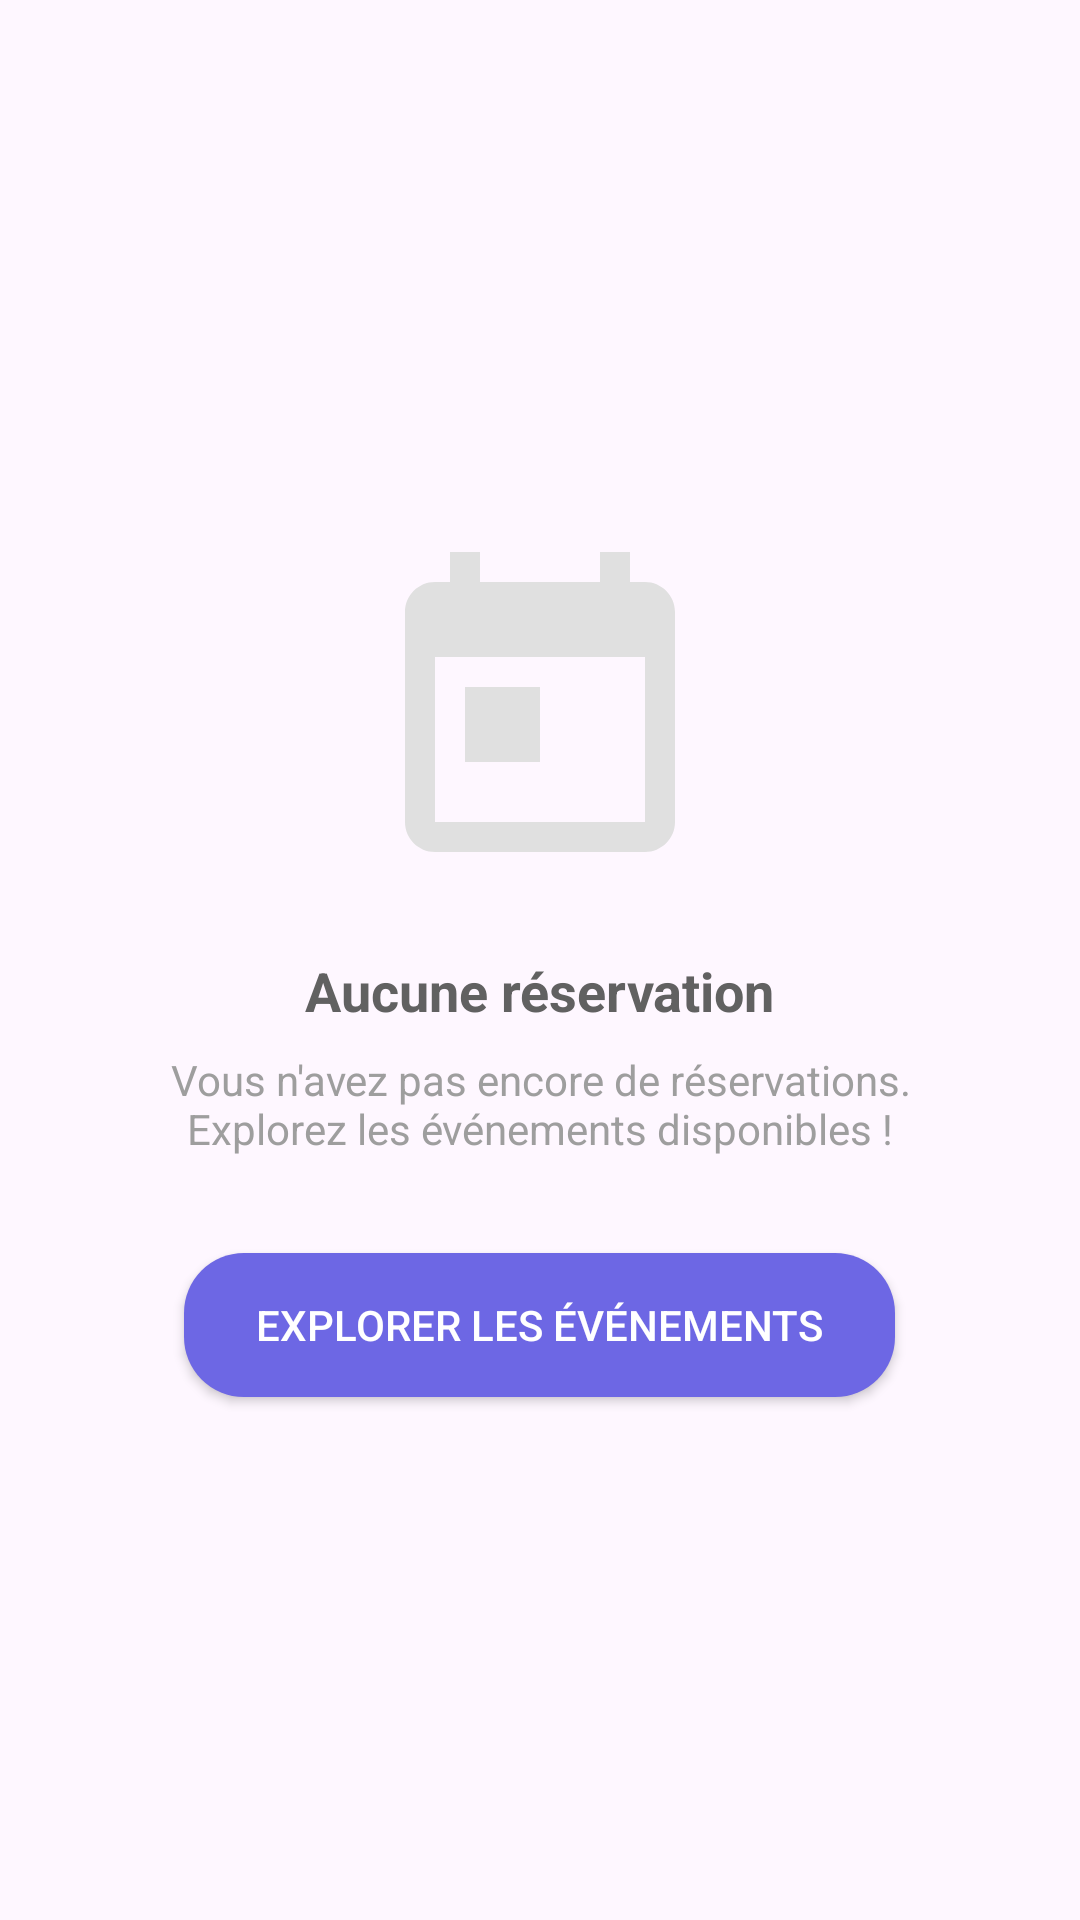

Screen size 1080 × 1920. Icon name, then its center in pixels as [x,y]:
empty calendar: [540,702]
